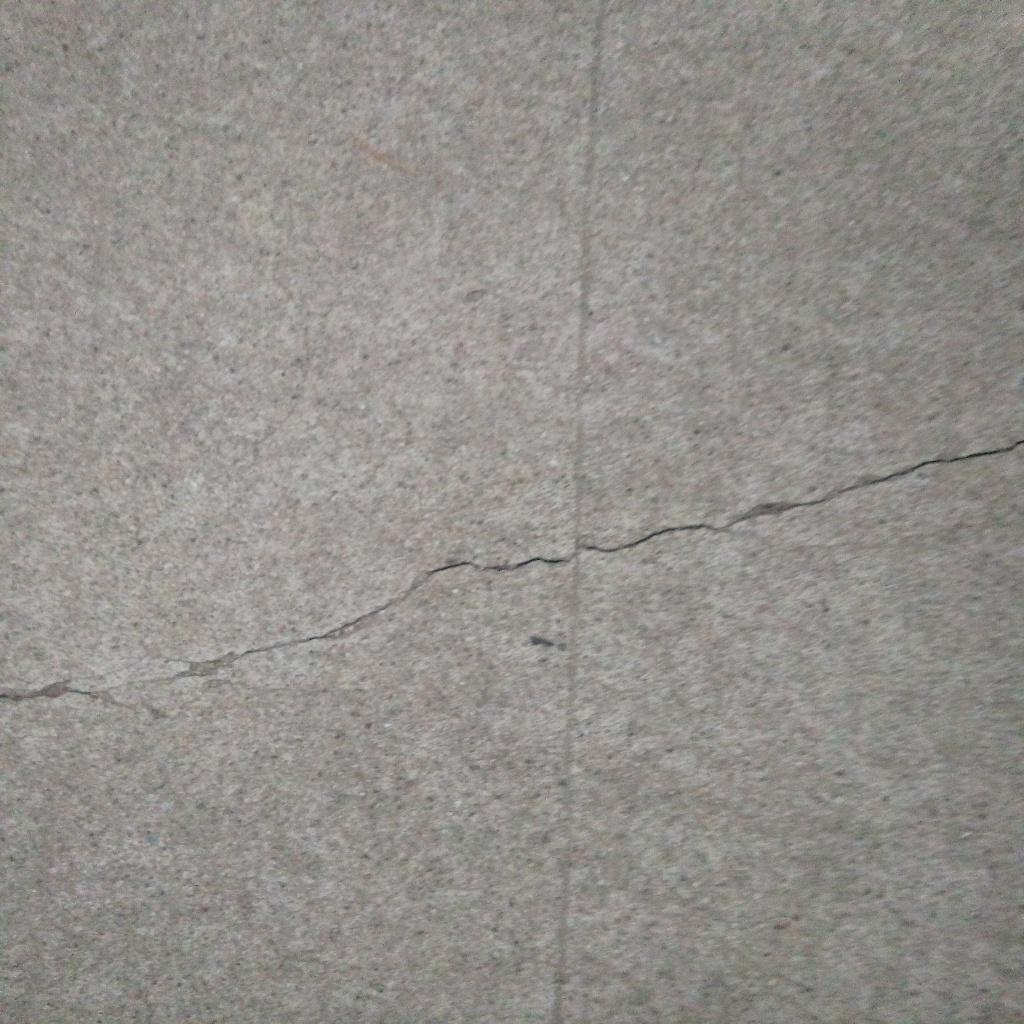Crack: (1, 437, 1024, 704)
